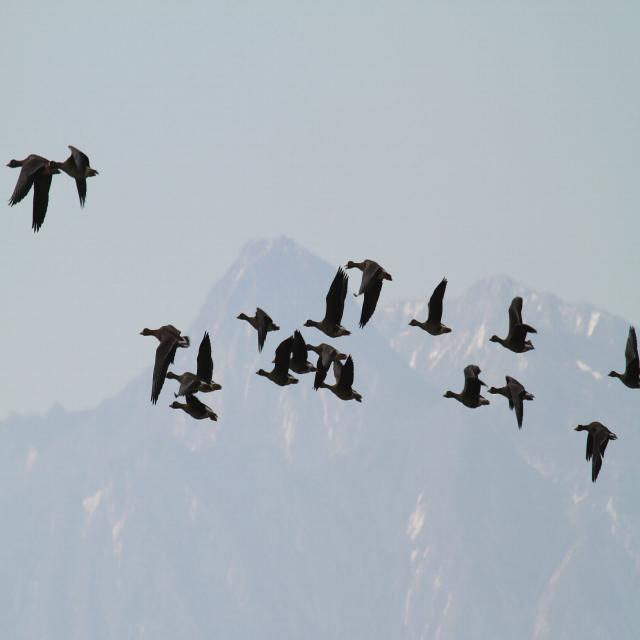bird: (6, 149, 61, 236), (161, 328, 224, 397), (140, 325, 191, 408), (306, 264, 354, 340), (53, 137, 101, 210), (491, 293, 540, 354), (409, 277, 455, 338), (353, 261, 393, 330), (575, 421, 616, 485), (443, 361, 492, 414), (493, 374, 536, 433), (318, 353, 364, 405), (608, 326, 640, 398), (257, 335, 295, 389), (165, 392, 220, 429), (236, 307, 281, 350), (308, 343, 347, 385), (288, 319, 314, 377)
